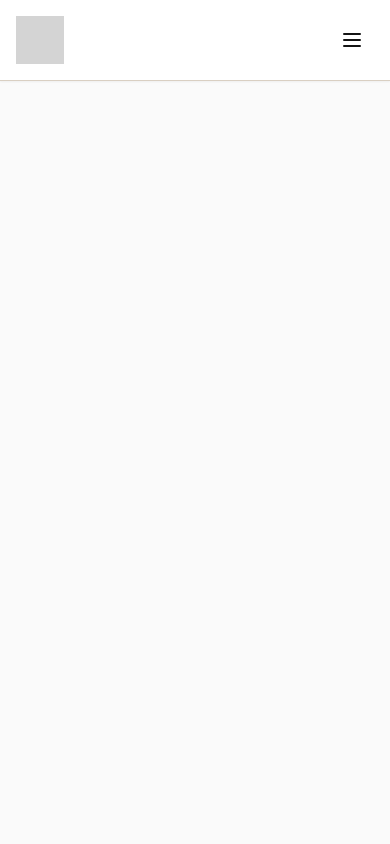
it: BrandHeader, phone panel › is a modal dialog with the four treatments and the four other pages
Step 1. Click the button named "Open menu" → [352, 40], box left=330, top=18, right=374, bottom=62
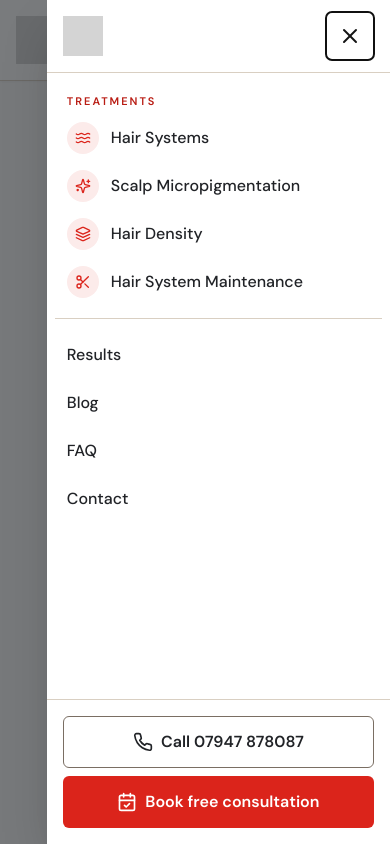
Now the link "Hair Systems" is shown, box left=67, top=122, right=209, bottom=154
Now the link "Scalp Micropigmentation" is shown, box left=67, top=170, right=300, bottom=202
Now the link "Hair Density" is shown, box left=67, top=218, right=203, bottom=250
